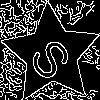S: (26, 29, 82, 84)
